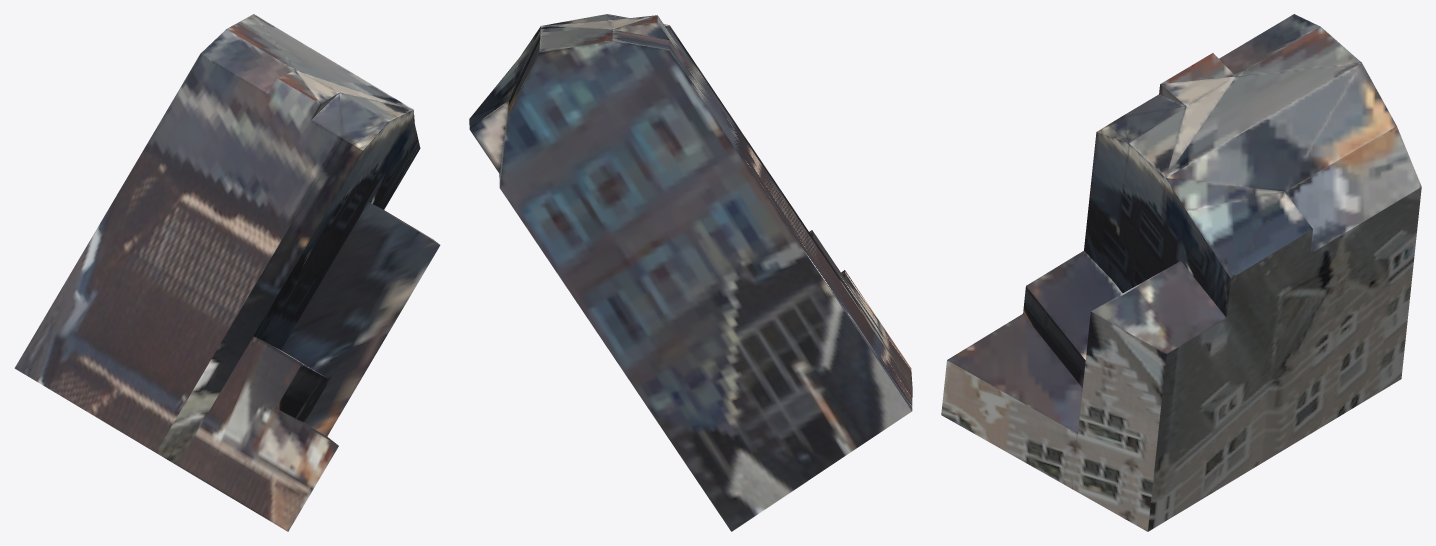
3 views of the same model, side by side, from view 1: azimuth 30°, elevation 25°; view 2: azimuth 150°, elevation 25°; view 3: azimuth 270°, elevation 25° (orthographic). The views are drawn at different scales.
Parts seen in each view (by area): view 1: BAG_0599100000650101 (×6); view 2: BAG_0599100000650101 (×5); view 3: BAG_0599100000650101 (×6).
Part boxes in pixels (x1,y1,x2,y2): BAG_0599100000650101 (×6): (14,14,440,531); BAG_0599100000650101 (×5): (469,14,912,531); BAG_0599100000650101 (×6): (941,14,1421,531).
Size of the model in its own units: 15.68 by 16.55 by 13.81.
Materials: 1 (1 with a texture image).
